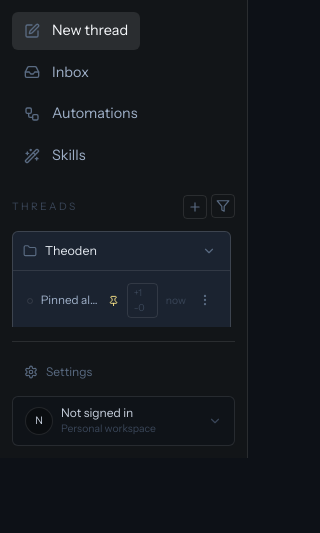
AppSidebar parity actions › allows switching to recency grouping from filter menu
The width and height of the screenshot is (320, 533).
What coordinates should you click on to do the following:
click the button named "Thread sort and filter"
I would click on:
 (223, 206)
Its box is [211,194,235,218].
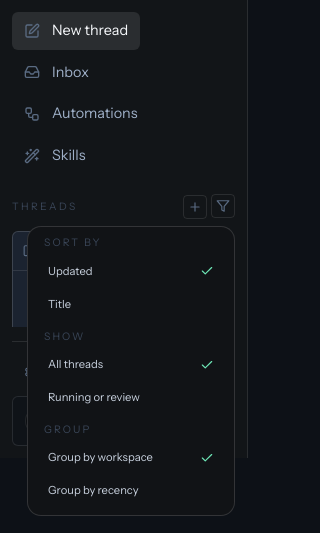
What coordinates should you click on to do the following:
click the button "Group by recency"
I would click on:
 (131, 491)
Its box is [36,474,226,507].
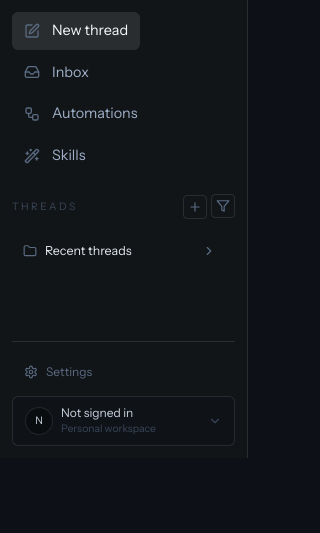
Expected: the text "Recent threads" is shown, [45,242,132,261]
